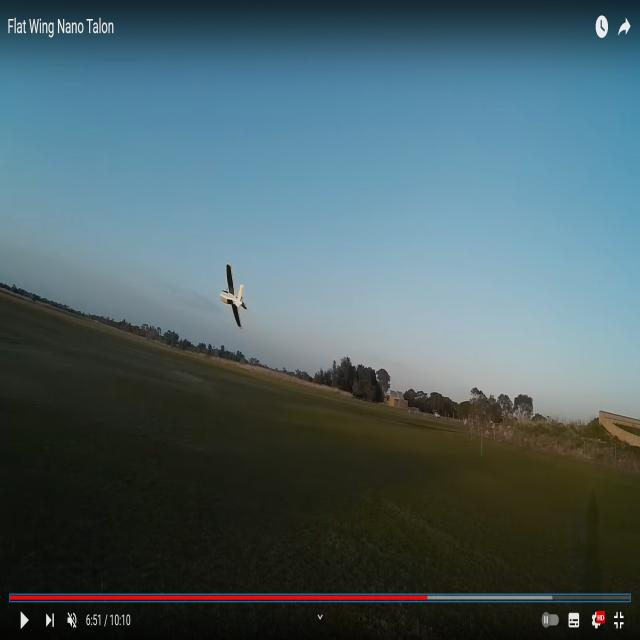iha: (221, 297, 246, 300)
